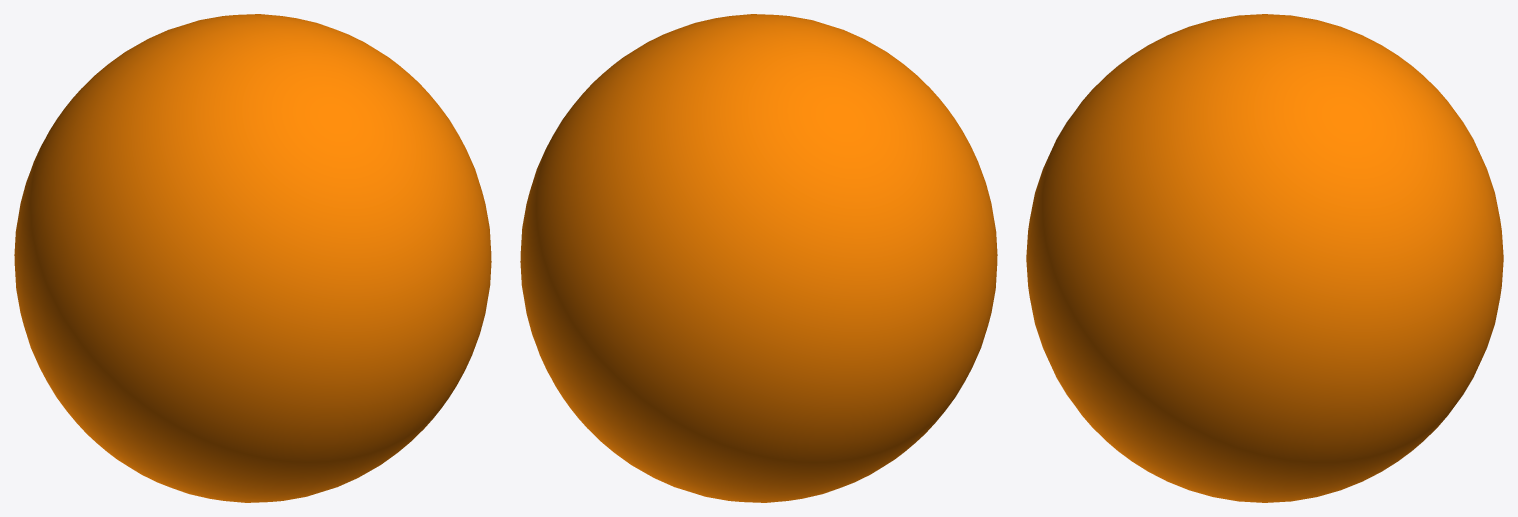
3 views of the same model, side by side, from view 1: azimuth 30°, elevation 25°; view 2: azimuth 150°, elevation 25°; view 3: azimuth 270°, elevation 25° (orthographic).
Parts seen in each view (by area): view 1: Node #0; view 2: Node #0; view 3: Node #0.
Boxes of the visible parts, x1,y1,x2,y2 form: Node #0: (14,14,491,502); Node #0: (520,14,997,502); Node #0: (1026,14,1503,502).
Bounding box in the file's own units: 0.2924 × 0.3012 × 0.2924.
1 material, 1 textured.
